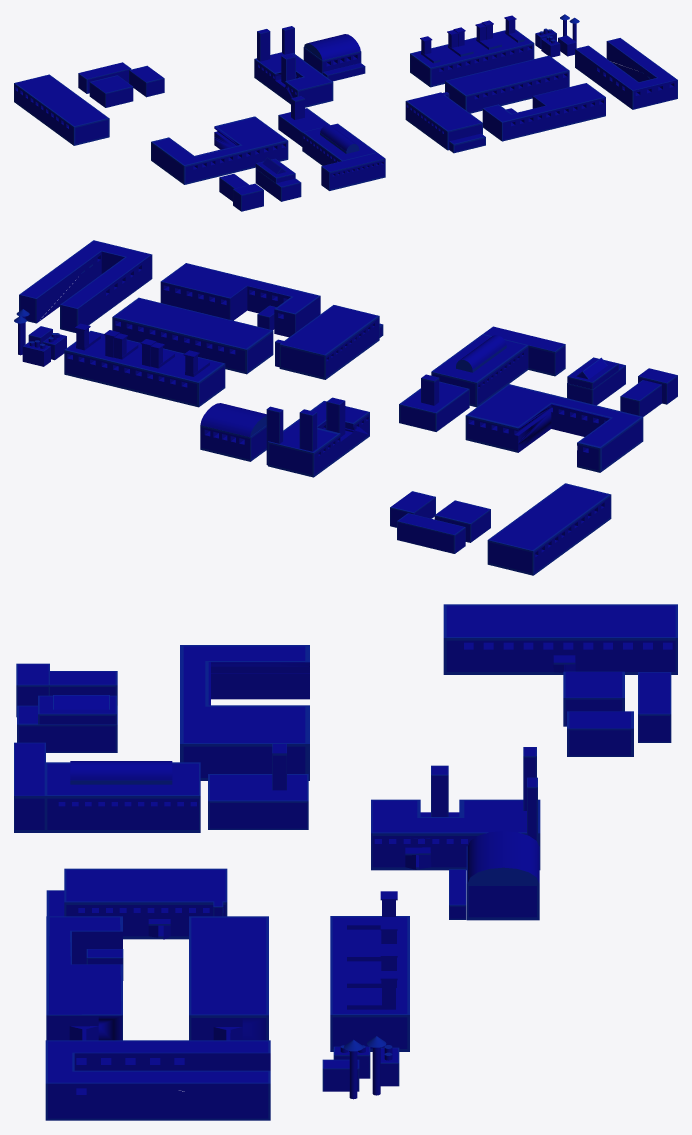
The model's file is city.obj.
3 renders of one model, top to bottom at view 1: azimuth 30°, elevation 25°; view 2: azimuth 150°, elevation 25°; view 3: azimuth 270°, elevation 25°, orthographic. The views are drawn at different scales.
Visible parts, largest first — view 1: 厂房四_13, 立方体_1, 厂房一_26, 厂房三_3, 厂房一_12, 立方体, 厂房一_2, 厂房二_6, 厂房四_7, 厂房四_26, 厂房三, 厂房二 (+15 smaller); view 2: 立方体_1, 厂房四_13, 厂房三_3, 厂房一_26, 立方体, 厂房一_12, 厂房一_2, 厂房二_6, 厂房四_26, 厂房四_5, 厂房三_2, 厂房四_25 (+16 smaller); view 3: 立方体_1, 厂房三_3, 厂房四_13, 厂房一_26, 厂房一_2, 厂房四_26, 厂房二_6, 立方体, 厂房一_12, 厂房四_5, 厂房二, 厂房四_25 (+17 smaller).
Boxes of the visible parts, x1,y1,x2,y2 form: 厂房四_13: [151, 116, 288, 184]; 立方体_1: [575, 38, 677, 109]; 厂房一_26: [445, 55, 569, 113]; 厂房三_3: [14, 74, 109, 145]; 厂房一_12: [482, 83, 605, 141]; 立方体: [410, 29, 534, 87]; 厂房一_2: [405, 92, 482, 150]; 厂房二_6: [254, 52, 333, 107]; 厂房四_7: [321, 152, 385, 190]; 厂房四_26: [302, 123, 376, 165]; 厂房三: [89, 75, 133, 107]; 厂房二: [304, 34, 360, 60]; 立方体_1: [19, 240, 152, 332]; 厂房四_13: [465, 384, 643, 472]; 厂房三_3: [487, 483, 611, 575]; 厂房一_26: [112, 297, 273, 374]; 立方体: [64, 331, 225, 407]; 厂房一_12: [160, 263, 320, 337]; 厂房一_2: [279, 305, 379, 379]; 厂房二_6: [268, 401, 369, 477]; 厂房四_26: [431, 334, 528, 407]; 厂房四_5: [399, 381, 469, 431]; 厂房三_2: [397, 513, 465, 553]; 厂房四_25: [518, 404, 609, 452]; 立方体_1: [45, 1040, 270, 1120]; 厂房三_3: [443, 604, 677, 674]; 厂房四_13: [180, 645, 309, 780]; 厂房一_26: [189, 916, 268, 1040]; 厂房一_2: [64, 868, 227, 939]; 厂房四_26: [45, 762, 200, 832]; 厂房二_6: [371, 799, 540, 870]; 立方体: [330, 916, 409, 1051]; 厂房一_12: [46, 916, 122, 1040]; 厂房四_5: [208, 774, 308, 829]; 厂房二: [467, 831, 539, 883]; 厂房四_25: [211, 662, 309, 699].
Bounding box in the file's own units: 2216 × 201 × 1301.
